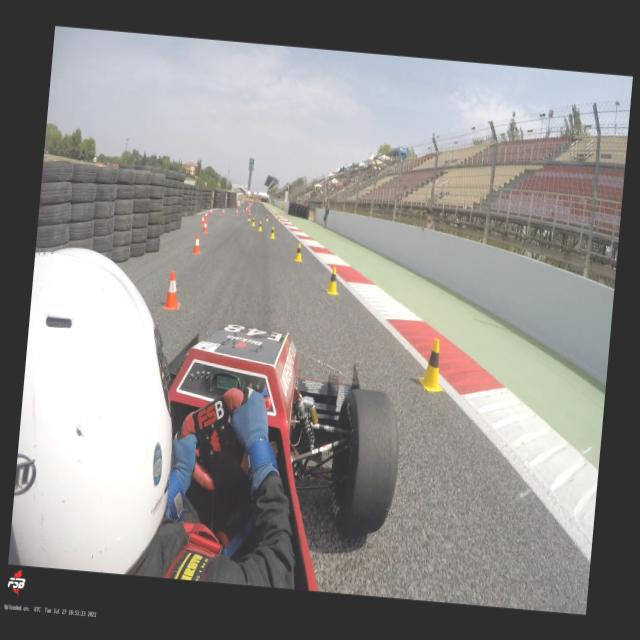orange_cone: (162, 270, 182, 310), (191, 234, 201, 254), (202, 220, 208, 232), (200, 216, 204, 226), (204, 210, 208, 219), (208, 208, 212, 215), (235, 208, 238, 214), (222, 208, 224, 215), (242, 209, 244, 215), (245, 206, 247, 212), (248, 208, 250, 214)
yellow_cone: (417, 337, 447, 392), (326, 266, 340, 294), (294, 242, 304, 262), (270, 225, 276, 238), (257, 220, 262, 232), (251, 217, 255, 226), (265, 213, 269, 220), (247, 214, 250, 221), (274, 212, 276, 217), (278, 216, 280, 220)
